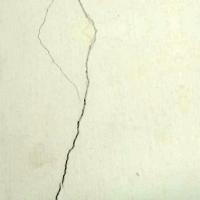crack: (28, 0, 99, 199)
